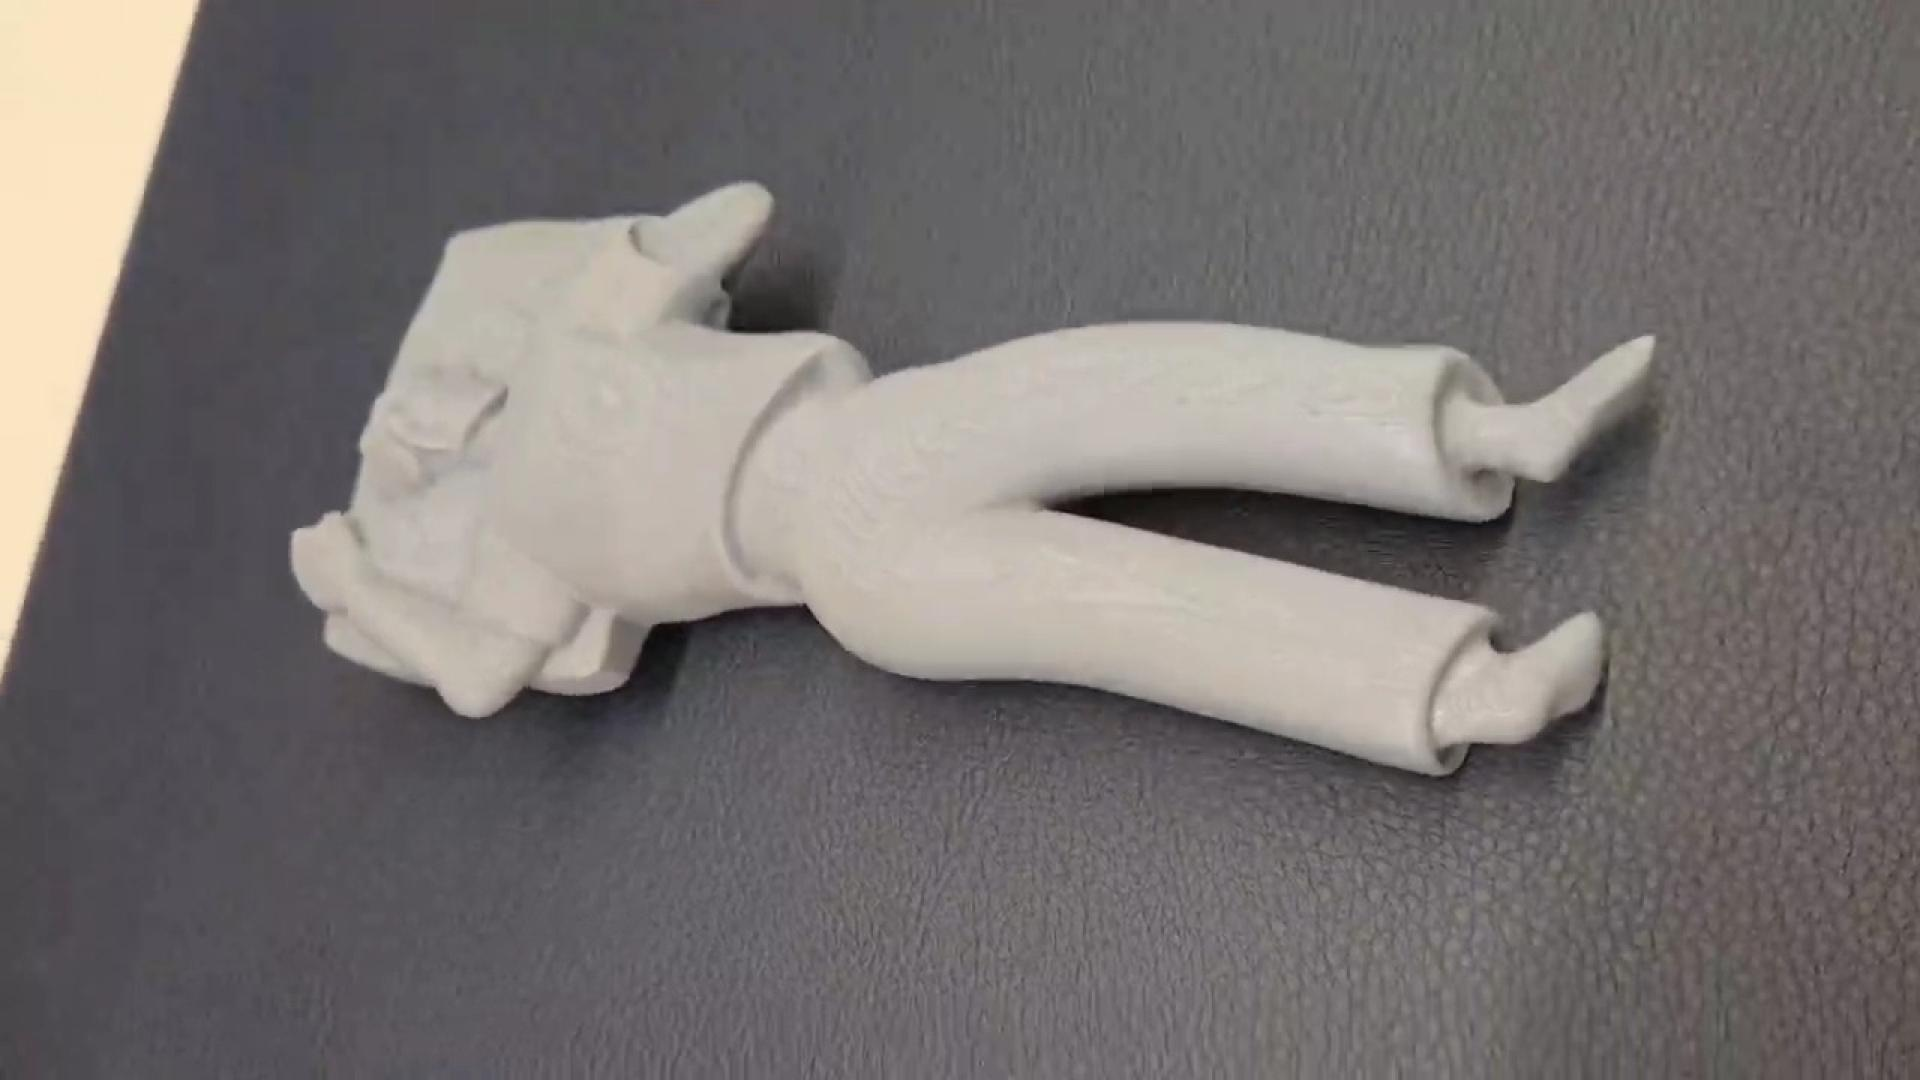Bad-style: (291, 178, 1664, 794)
